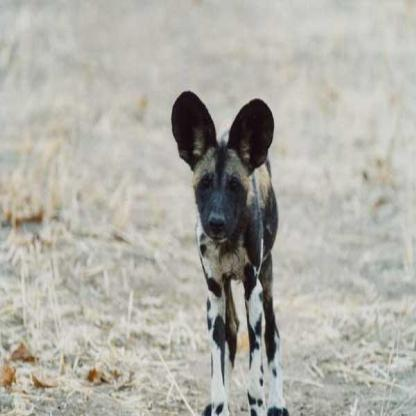African_hunting_dog: (170, 89, 288, 413)
